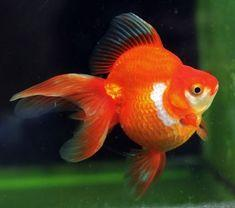goldfish: (63, 38, 229, 171)
